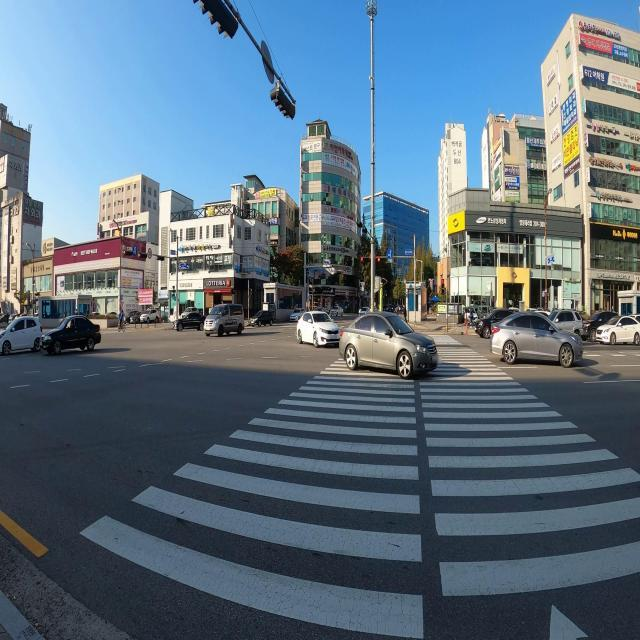crosswalk: (68, 324, 640, 640)
